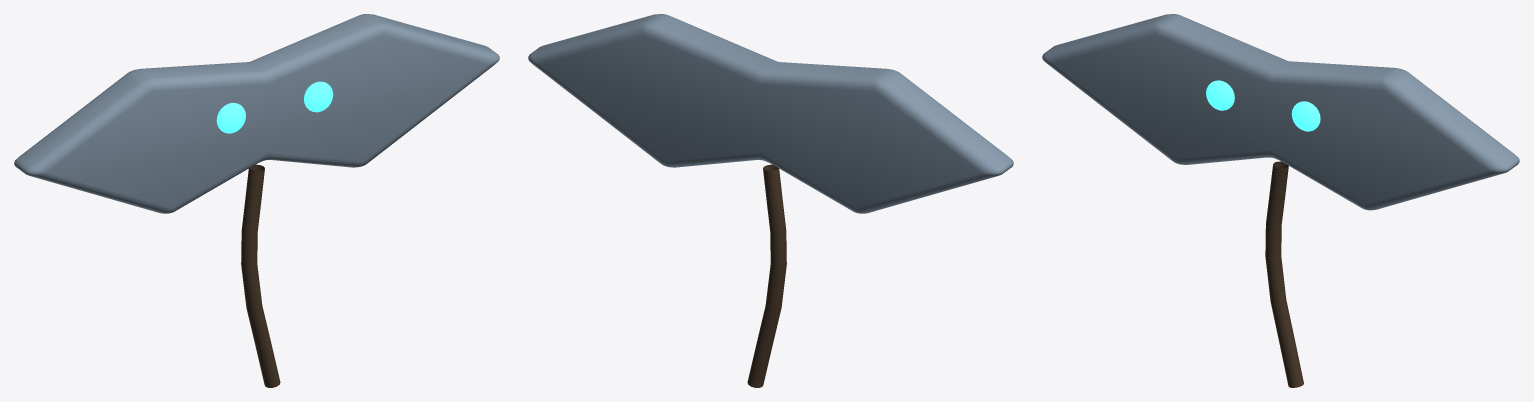
The model's file is aquatic_v4.glb.
The picture shows the model from 3 angles, left to right: view 1: azimuth 30°, elevation 25°; view 2: azimuth 150°, elevation 25°; view 3: azimuth 330°, elevation 25°; orthographic projection.
Parts seen in each view (by area): view 1: MANTA_BODY_PRIMARY, MANTA_TAIL_SECONDARY, EYE_EMISSIVE.001, EYE_EMISSIVE; view 2: MANTA_BODY_PRIMARY, MANTA_TAIL_SECONDARY; view 3: MANTA_BODY_PRIMARY, MANTA_TAIL_SECONDARY, EYE_EMISSIVE.001, EYE_EMISSIVE.
Part boxes in pixels (x1=…): MANTA_BODY_PRIMARY: x1=14, y1=14, x2=499, y2=213; MANTA_TAIL_SECONDARY: x1=241, y1=164, x2=280, y2=387; EYE_EMISSIVE.001: x1=304, y1=81, x2=333, y2=112; EYE_EMISSIVE: x1=216, y1=102, x2=245, y2=133; MANTA_BODY_PRIMARY: x1=528, y1=14, x2=1013, y2=213; MANTA_TAIL_SECONDARY: x1=747, y1=164, x2=786, y2=387; MANTA_BODY_PRIMARY: x1=1042, y1=14, x2=1519, y2=210; MANTA_TAIL_SECONDARY: x1=1265, y1=161, x2=1303, y2=387; EYE_EMISSIVE.001: x1=1291, y1=101, x2=1320, y2=131; EYE_EMISSIVE: x1=1206, y1=80, x2=1234, y2=110.
Bounding box in the file's own units: 3.05 × 2.1 × 0.37.
